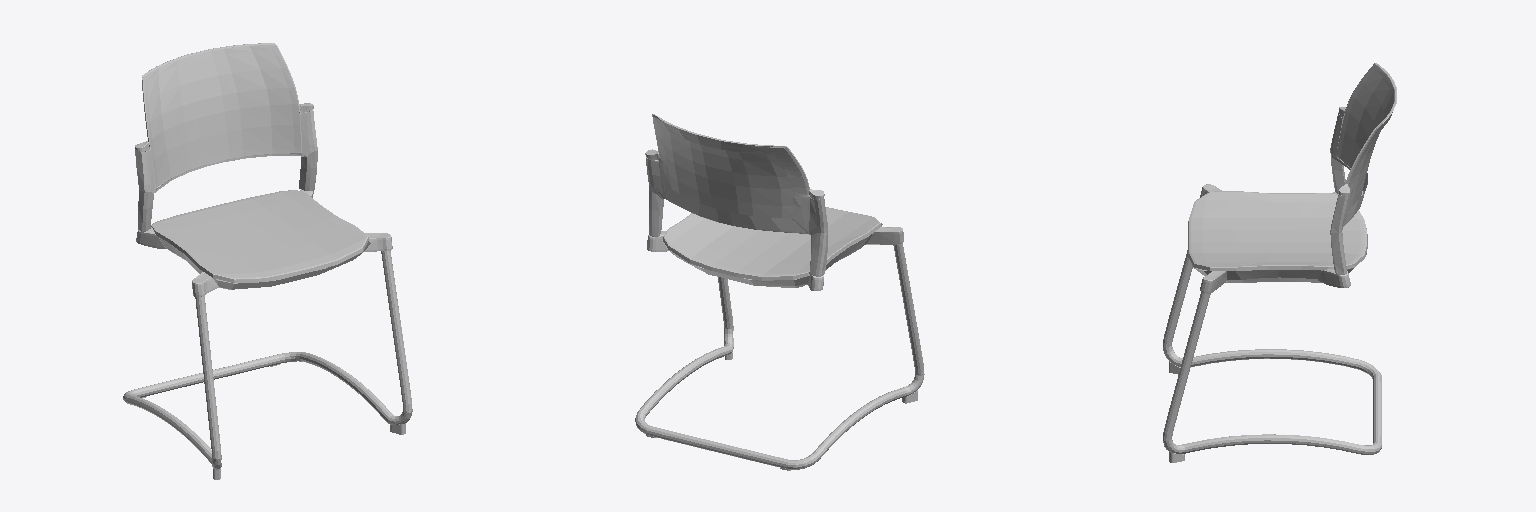
File: chair.obj
3 views of the same model, side by side, from view 1: azimuth 30°, elevation 25°; view 2: azimuth 150°, elevation 25°; view 3: azimuth 270°, elevation 25° (orthographic).
Parts seen in each view (by area): view 1: krzes_o-KYOS-KY-231-1N Shape001, krzes_o-KYOS-KY-231-1N Object004, krzes_o-KYOS-KY-231-1N stelaz002, krzes_o-KYOS-KY-231-1N oparcie, krzes_o-KYOS-KY-231-1N Object007; view 2: krzes_o-KYOS-KY-231-1N Object004, krzes_o-KYOS-KY-231-1N Shape001, krzes_o-KYOS-KY-231-1N oparcie, krzes_o-KYOS-KY-231-1N stelaz002, krzes_o-KYOS-KY-231-1N Object007; view 3: krzes_o-KYOS-KY-231-1N Object004, krzes_o-KYOS-KY-231-1N stelaz002, krzes_o-KYOS-KY-231-1N Shape001, krzes_o-KYOS-KY-231-1N oparcie, krzes_o-KYOS-KY-231-1N Object007.
Part boxes in pixels (left/top/right/bottom): krzes_o-KYOS-KY-231-1N Shape001: left=143, top=45, right=300, bottom=187; krzes_o-KYOS-KY-231-1N Object004: left=151, top=190, right=370, bottom=289; krzes_o-KYOS-KY-231-1N stelaz002: left=123, top=250, right=412, bottom=469; krzes_o-KYOS-KY-231-1N oparcie: left=135, top=43, right=317, bottom=231; krzes_o-KYOS-KY-231-1N Object007: left=192, top=233, right=392, bottom=296; krzes_o-KYOS-KY-231-1N Object004: left=662, top=207, right=882, bottom=287; krzes_o-KYOS-KY-231-1N Shape001: left=662, top=128, right=792, bottom=218; krzes_o-KYOS-KY-231-1N oparcie: left=646, top=114, right=827, bottom=276; krzes_o-KYOS-KY-231-1N stelaz002: left=635, top=243, right=924, bottom=469; krzes_o-KYOS-KY-231-1N Object007: left=866, top=227, right=903, bottom=244; krzes_o-KYOS-KY-231-1N Object004: left=1188, top=191, right=1367, bottom=282; krzes_o-KYOS-KY-231-1N stelaz002: left=1163, top=250, right=1381, bottom=454; krzes_o-KYOS-KY-231-1N Shape001: left=1336, top=65, right=1393, bottom=207; krzes_o-KYOS-KY-231-1N oparcie: left=1330, top=63, right=1396, bottom=274; krzes_o-KYOS-KY-231-1N Object007: left=1200, top=184, right=1226, bottom=293.
Size of the model in its own units: 55.45 by 85.73 by 56.62.